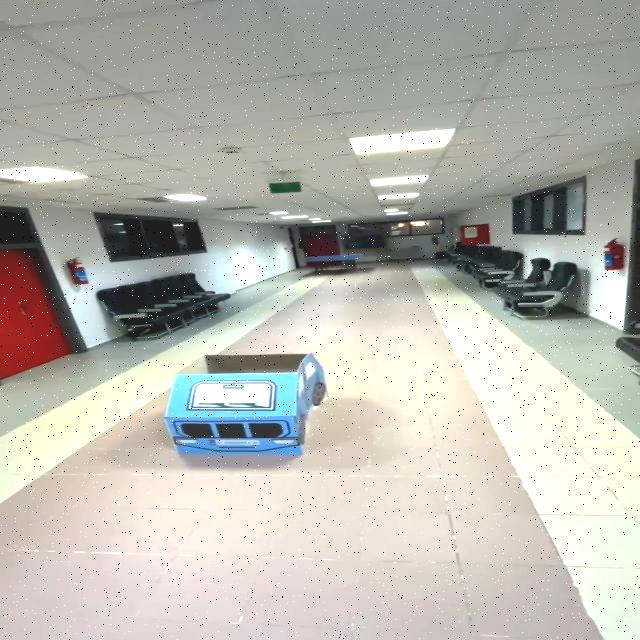blue_car: (99, 339, 347, 482)
